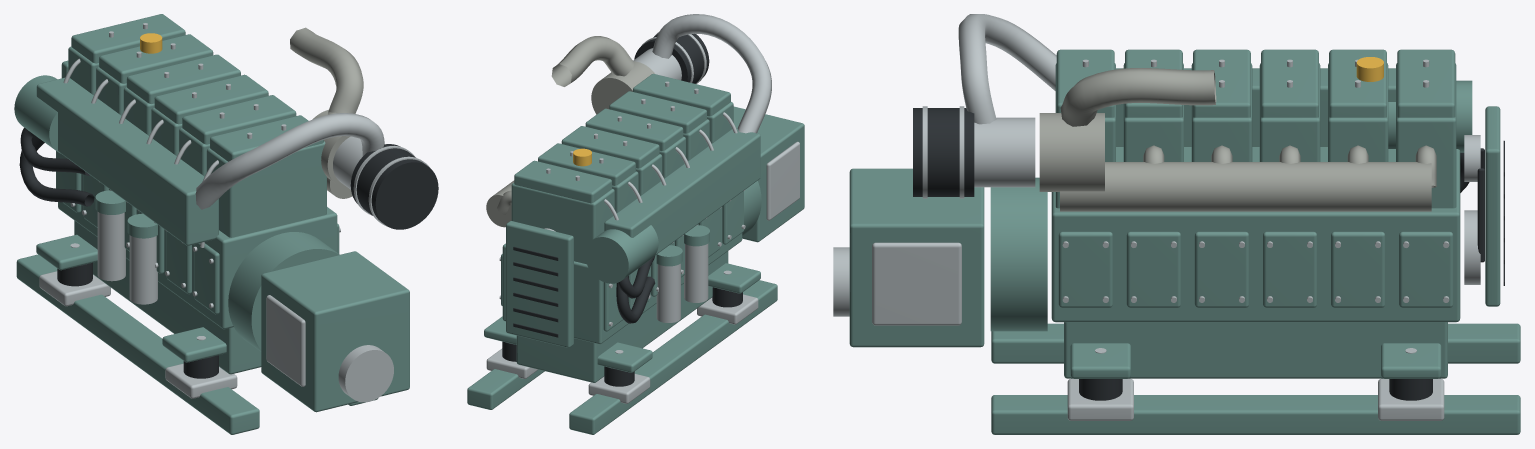
Rendered from marine_i6_compact.glb.
The picture shows the model from 3 angles, left to right: view 1: azimuth 30°, elevation 25°; view 2: azimuth 150°, elevation 25°; view 3: azimuth 270°, elevation 25°; orthographic projection. The views are drawn at different scales.
Parts seen in each view (by area): view 1: marine_i6_compact Engine_Paint, marine_i6_compact Fixed_MachinedSteel, marine_i6_compact Fixed_Rubber, marine_i6_compact Fixed_HeatShield, marine_i6_compact Fixed_ServiceCaps; view 2: marine_i6_compact Engine_Paint, marine_i6_compact Fixed_MachinedSteel, marine_i6_compact Fixed_Rubber, marine_i6_compact Fixed_HeatShield; view 3: marine_i6_compact Engine_Paint, marine_i6_compact Fixed_HeatShield, marine_i6_compact Fixed_MachinedSteel, marine_i6_compact Fixed_Rubber, marine_i6_compact Fixed_ServiceCaps.
Part boxes in pixels (left/top/right/bottom): marine_i6_compact Engine_Paint: left=14, top=14, right=409, bottom=434; marine_i6_compact Fixed_MachinedSteel: left=39, top=23, right=429, bottom=402; marine_i6_compact Fixed_Rubber: left=19, top=127, right=438, bottom=378; marine_i6_compact Fixed_HeatShield: left=290, top=27, right=363, bottom=198; marine_i6_compact Fixed_ServiceCaps: left=140, top=33, right=162, bottom=53; marine_i6_compact Engine_Paint: left=467, top=73, right=804, bottom=434; marine_i6_compact Fixed_MachinedSteel: left=486, top=14, right=799, bottom=403; marine_i6_compact Fixed_Rubber: left=502, top=33, right=742, bottom=386; marine_i6_compact Fixed_HeatShield: left=486, top=36, right=654, bottom=227; marine_i6_compact Engine_Paint: left=849, top=49, right=1520, bottom=434; marine_i6_compact Fixed_HeatShield: left=1039, top=68, right=1436, bottom=211; marine_i6_compact Fixed_MachinedSteel: left=833, top=14, right=1480, bottom=420; marine_i6_compact Fixed_Rubber: left=913, top=108, right=1504, bottom=400; marine_i6_compact Fixed_ServiceCaps: left=1356, top=57, right=1383, bottom=81.
Size of the model in its own units: 0.9276 by 1.37 by 2.27.
